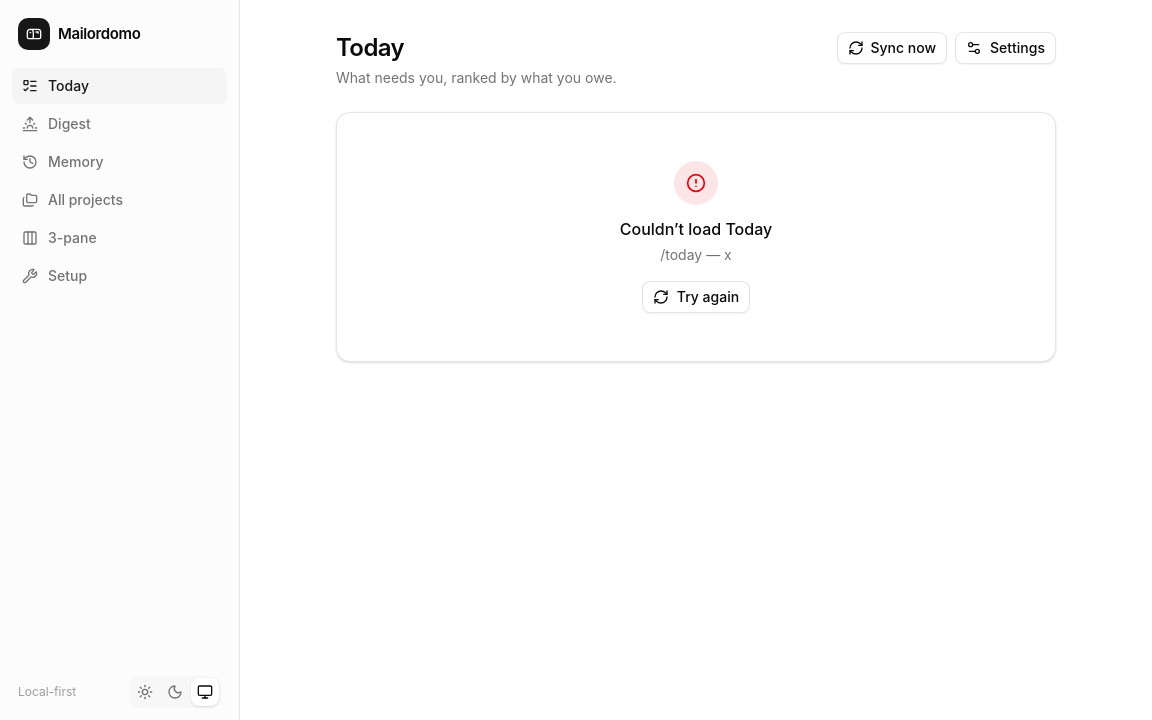
Test: Digest nav (intent) — the sidebar item switches the view › clicking "Digest" mounts the digest view (its sections appear)
Click the button "Digest". click: (120, 124)
box: [12,106,227,142]
(page scrolled)
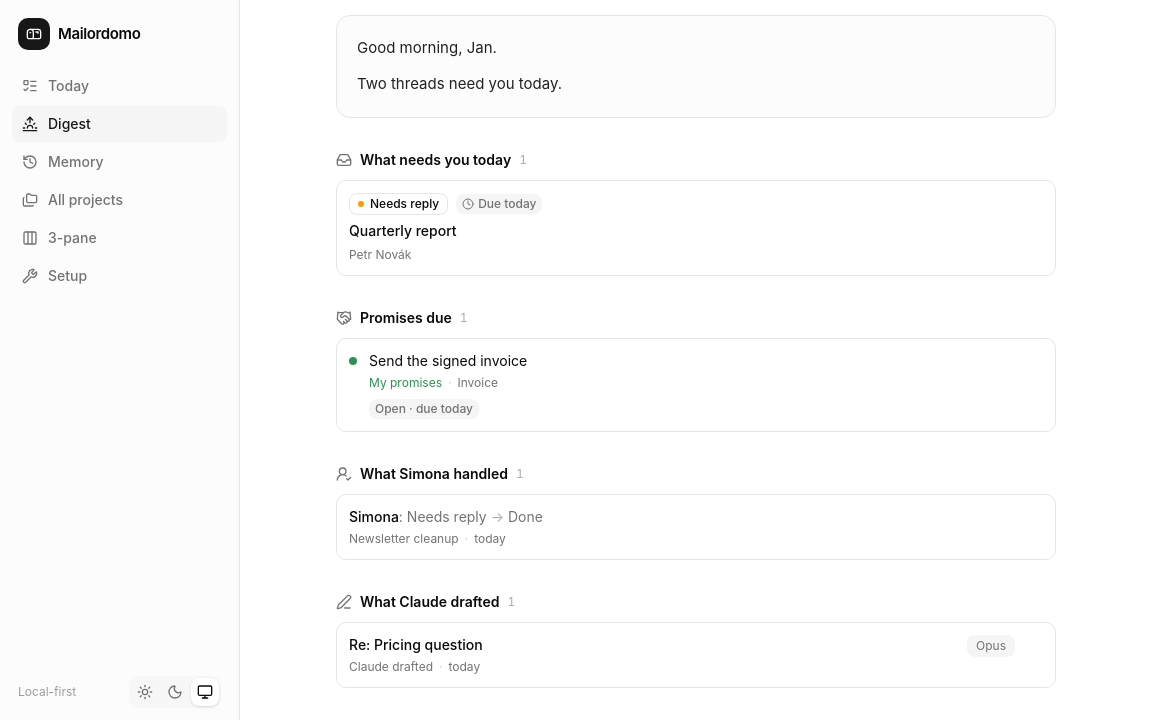
Check: the heading "What needs you today" is shown, box [360,150,511,170]
Check: the text "Re: Pricing question" is shown, box [349,636,483,653]
